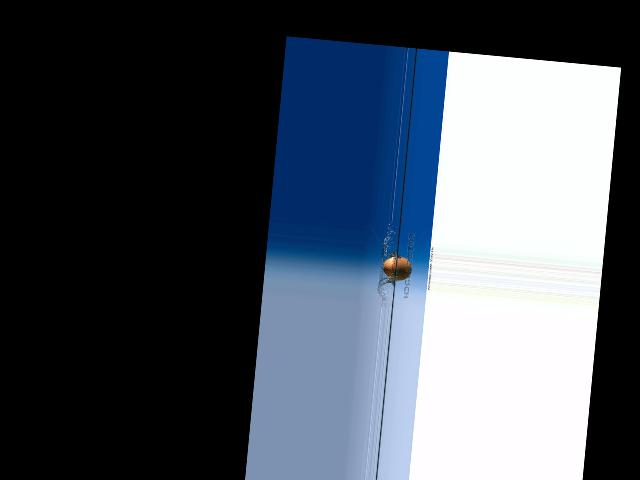egg: (381, 255, 412, 282)
